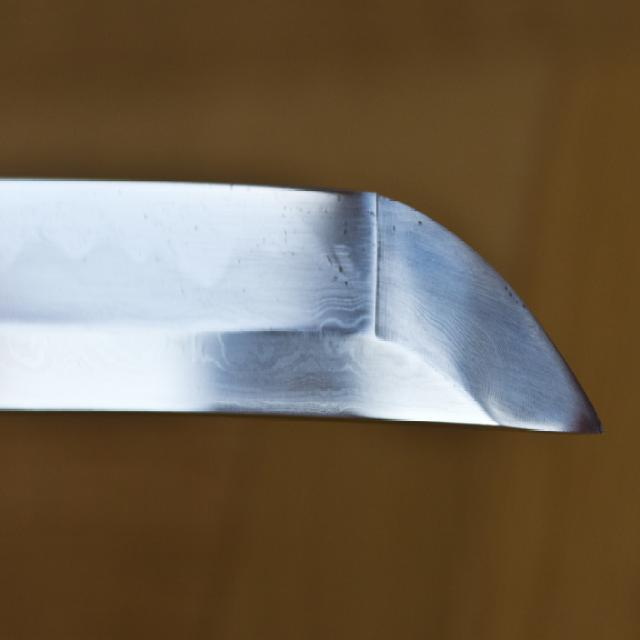Knife: (0, 178, 603, 436)
